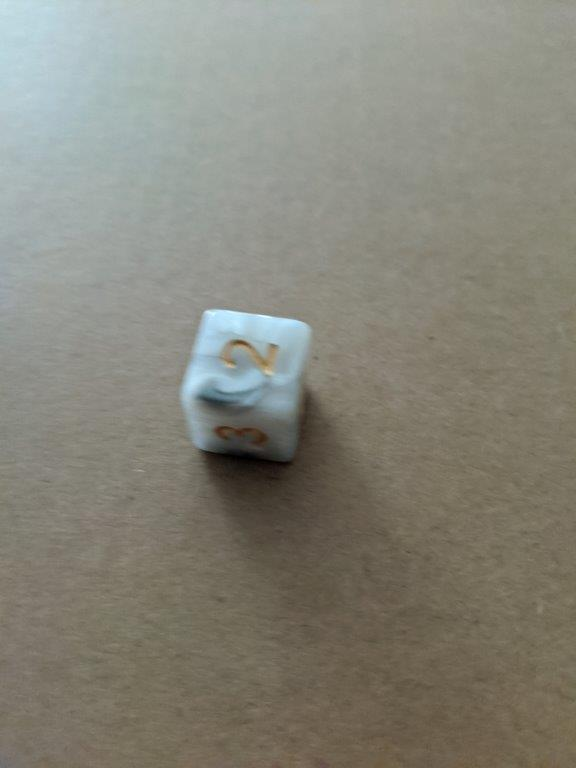d6-2: (179, 308, 314, 468)
